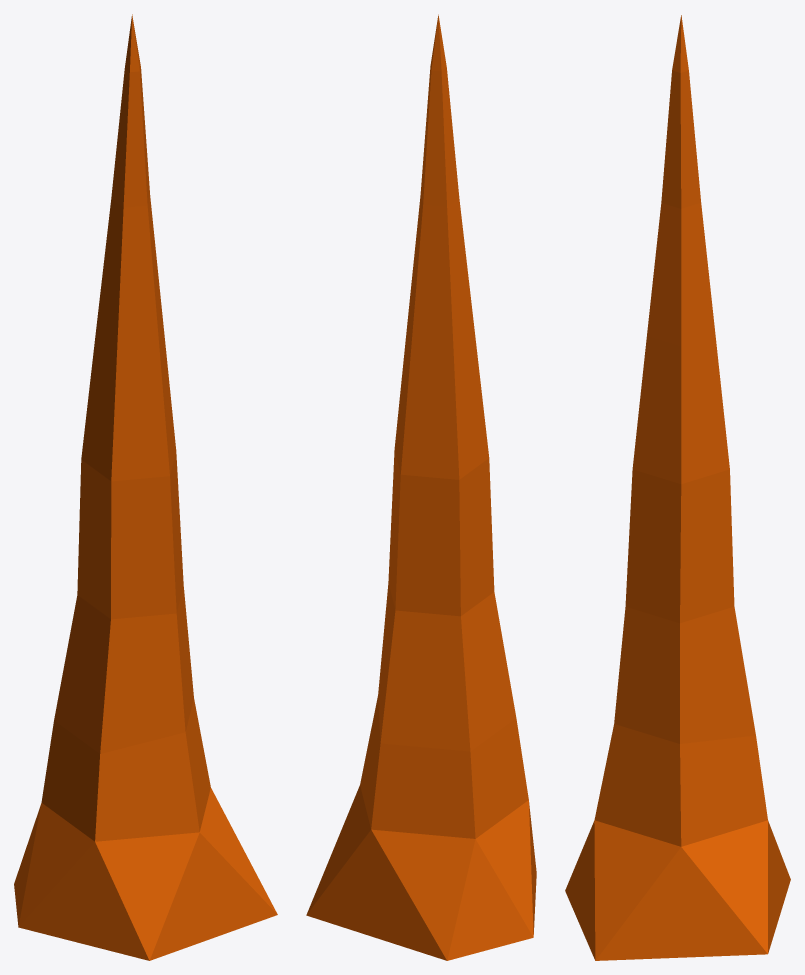
File: Espeto.fbx
3 renders of one model, left to right at view 1: azimuth 30°, elevation 25°; view 2: azimuth 150°, elevation 25°; view 3: azimuth 270°, elevation 25°, orthographic.
Visible parts, largest first — view 1: Icosphere; view 2: Icosphere; view 3: Icosphere.
Boxes of the visible parts, x1,y1,x2,y2 form: Icosphere: [14, 14, 277, 960]; Icosphere: [306, 14, 536, 960]; Icosphere: [565, 15, 790, 960].
Bounding box in the file's own units: 296 × 1220 × 279.
